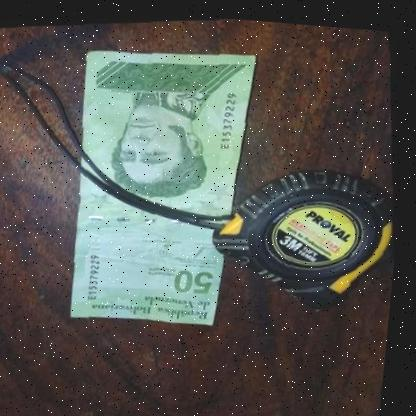fifty-front-vef: (45, 31, 284, 338)
